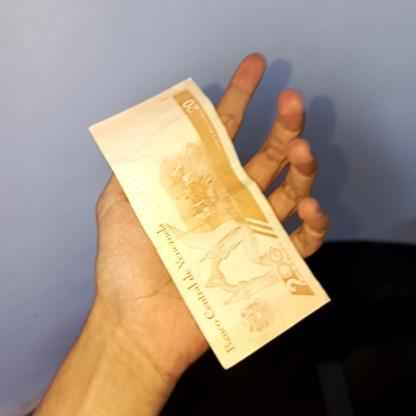twenty-back-vef: (85, 76, 331, 370)
